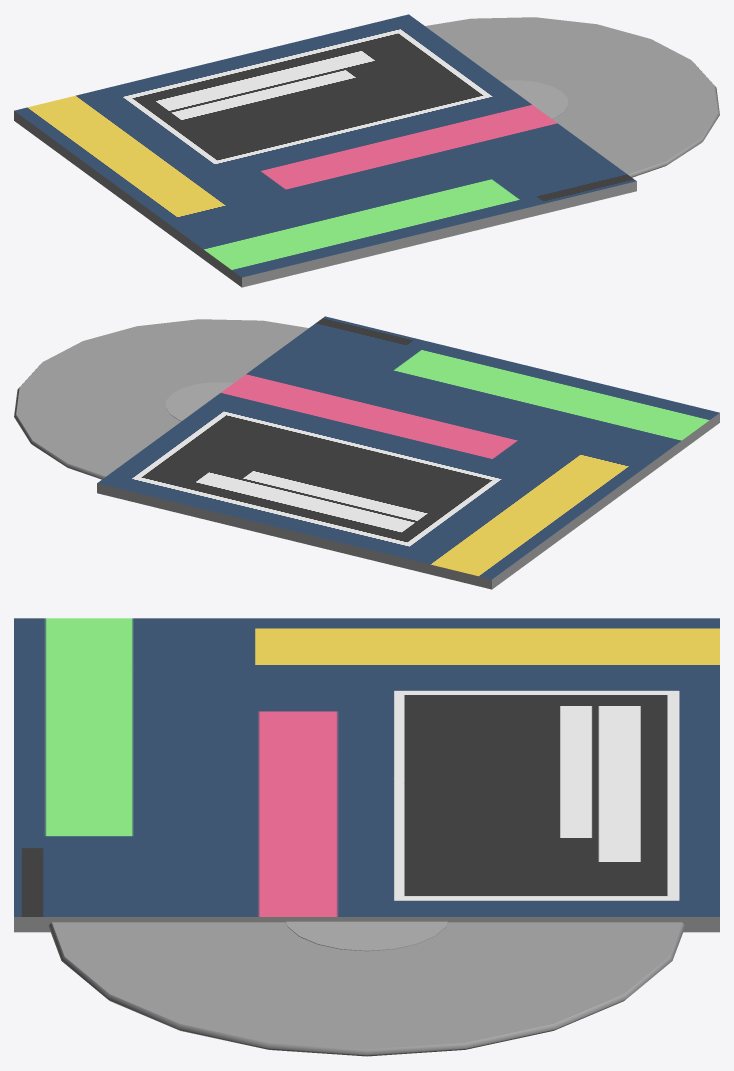
Rendered from VinylRecord.fbx.
3 views of the same model, one above another, from view 1: azimuth 30°, elevation 25°; view 2: azimuth 150°, elevation 25°; view 3: azimuth 270°, elevation 25° (orthographic). The views are drawn at different scales.
Parts seen in each view (by area): view 1: pCube1, pCylinder3; view 2: pCube1, pCylinder3; view 3: pCube1, pCylinder3.
Part boxes in pixels (x1=…): pCube1: x1=14, y1=14, x2=636, y2=287; pCylinder3: x1=425, y1=17, x2=719, y2=177; pCube1: x1=97, y1=316, x2=719, y2=589; pCylinder3: x1=14, y1=319, x2=308, y2=479; pCube1: x1=14, y1=618, x2=719, y2=932; pCylinder3: x1=48, y1=921, x2=685, y2=1056.
Bounding box in the file's own units: 1.43 × 0.0244 × 1.
